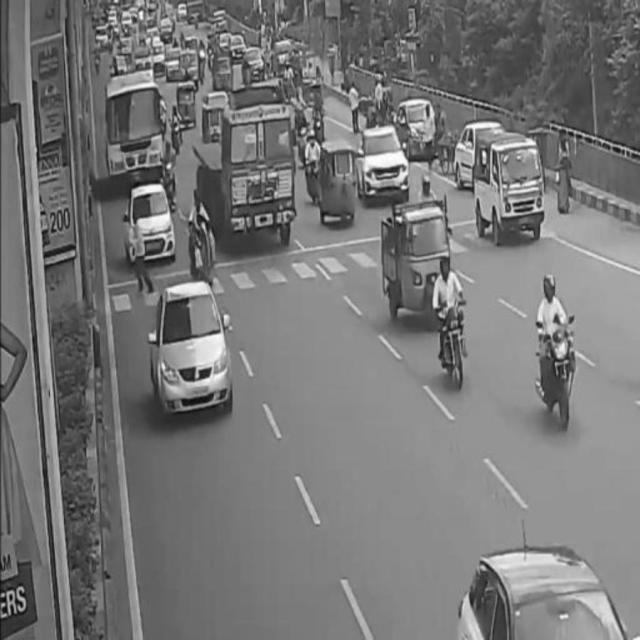accident: (188, 187, 220, 289)
person: (132, 210, 156, 296), (557, 126, 573, 216)
vehicle: (457, 555, 632, 639), (224, 101, 295, 245), (148, 286, 229, 408), (383, 209, 460, 321), (475, 135, 542, 241), (534, 272, 578, 426), (107, 77, 168, 183), (437, 249, 469, 383), (358, 129, 409, 202), (130, 185, 175, 262), (322, 141, 356, 225)
